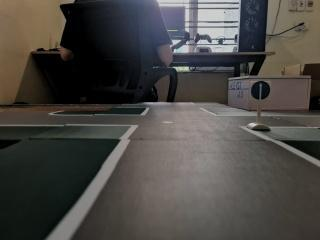straight: (250, 78, 274, 102)
